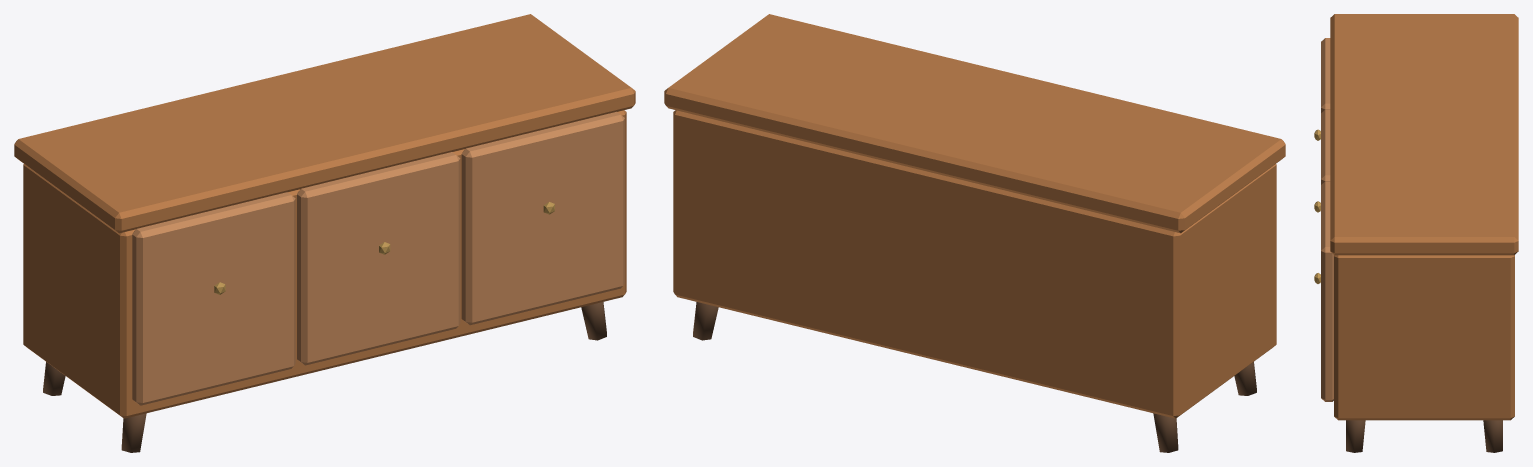
File: sideboard.glb
The picture shows the model from 3 angles, left to right: view 1: azimuth 30°, elevation 25°; view 2: azimuth 150°, elevation 25°; view 3: azimuth 270°, elevation 25°; orthographic projection. The views are drawn at different scales.
Visible parts, largest first — view 1: sideboard_cap, sideboard_door_0, sideboard_door_1, sideboard_door_2, sideboard_carcass, sideboard_leg_-0.805_-0.23500000000000001, sideboard_leg_0.805_-0.23500000000000001; view 2: sideboard_carcass, sideboard_cap, sideboard_leg_-0.805_0.23500000000000001, sideboard_leg_0.805_0.23500000000000001; view 3: sideboard_cap, sideboard_carcass, sideboard_door_2, sideboard_door_1, sideboard_door_0, sideboard_leg_0.805_0.23500000000000001, sideboard_leg_0.805_-0.23500000000000001.
Part boxes in pixels (x1,y1,x2,y2): sideboard_cap: (14,14,635,233); sideboard_door_0: (132,192,295,405); sideboard_door_1: (297,152,460,365); sideboard_door_2: (461,111,624,325); sideboard_carcass: (23,110,626,418); sideboard_leg_-0.805_-0.23500000000000001: (121,413,146,452); sideboard_leg_0.805_-0.23500000000000001: (581,302,606,340); sideboard_carcass: (673,110,1276,418); sideboard_cap: (664,14,1285,233); sideboard_leg_-0.805_0.23500000000000001: (1153,413,1178,452); sideboard_leg_0.805_0.23500000000000001: (693,302,718,340); sideboard_cap: (1330,14,1518,255); sideboard_carcass: (1334,255,1514,420); sideboard_door_2: (1321,181,1333,401); sideboard_door_1: (1321,109,1330,184); sideboard_door_0: (1321,38,1330,112); sideboard_leg_0.805_0.23500000000000001: (1483,420,1502,452); sideboard_leg_0.805_-0.23500000000000001: (1346,420,1365,452).
Bounding box in the file's own units: 1.85 × 0.8549 × 0.7051.
